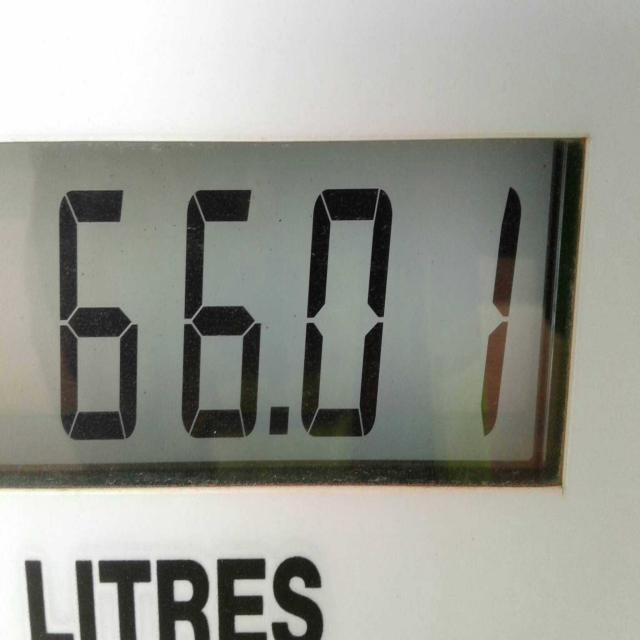.: (260, 391, 300, 461)
0: (298, 177, 405, 457)
1: (462, 173, 542, 450)
6: (40, 163, 153, 470), (166, 170, 270, 464)
